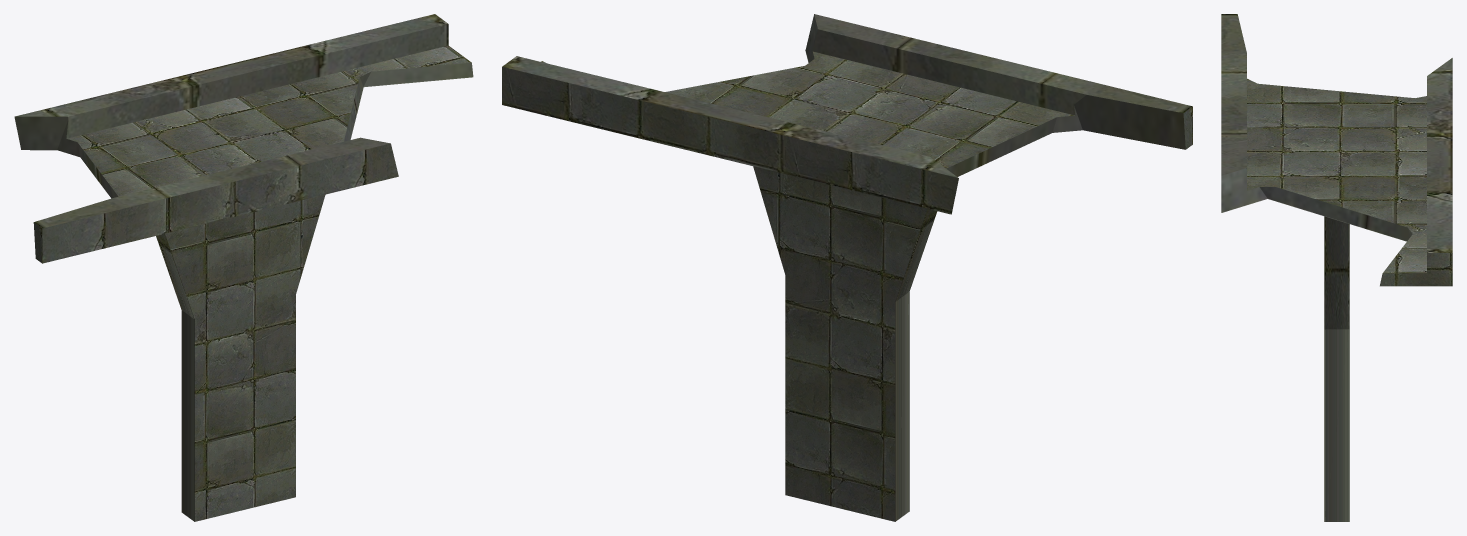
Rendered from stone_bridge_broke.fbx.
The picture shows the model from 3 angles, left to right: view 1: azimuth 30°, elevation 25°; view 2: azimuth 150°, elevation 25°; view 3: azimuth 270°, elevation 25°; orthographic projection. The views are drawn at different scales.
Parts seen in each view (by area): view 1: bridge.broke.001; view 2: bridge.broke.001; view 3: bridge.broke.001.
Boxes of the visible parts, x1,y1,x2,y2 form: bridge.broke.001: (14, 14, 473, 521); bridge.broke.001: (502, 14, 1192, 521); bridge.broke.001: (1221, 14, 1452, 521).
Bounding box in the file's own units: 2053 × 1464 × 841.
